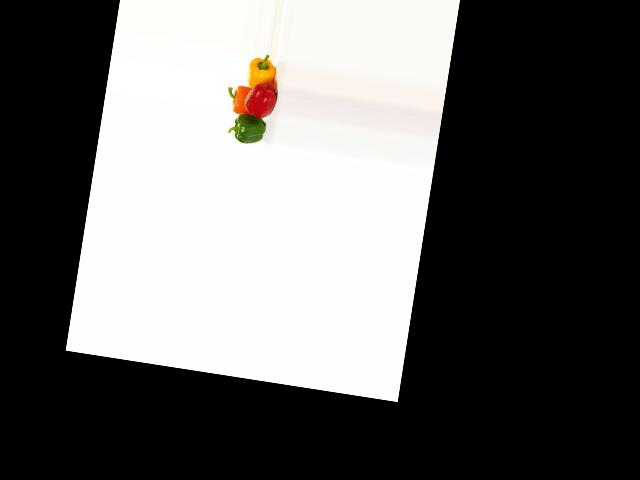bell_pepper: (229, 110, 272, 147)
